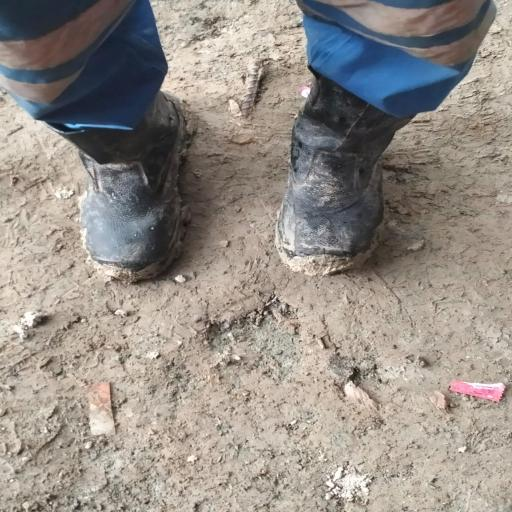safety_shoe: (281, 85, 403, 271), (76, 115, 190, 268)
